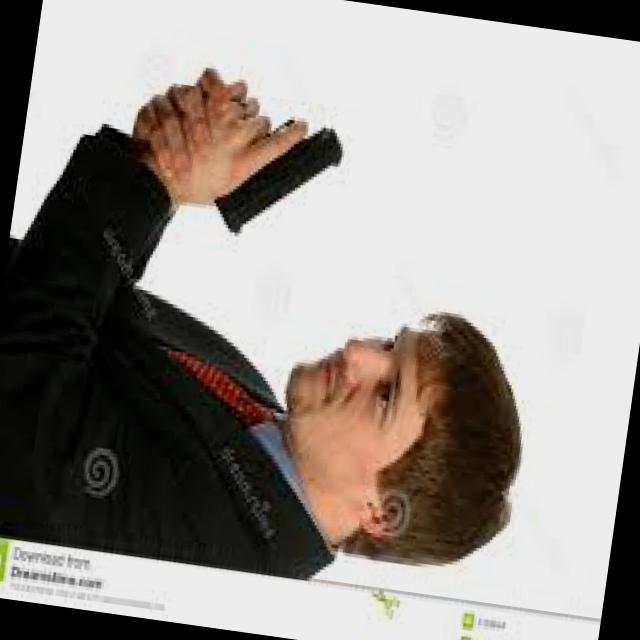handgun: (198, 80, 358, 247)
